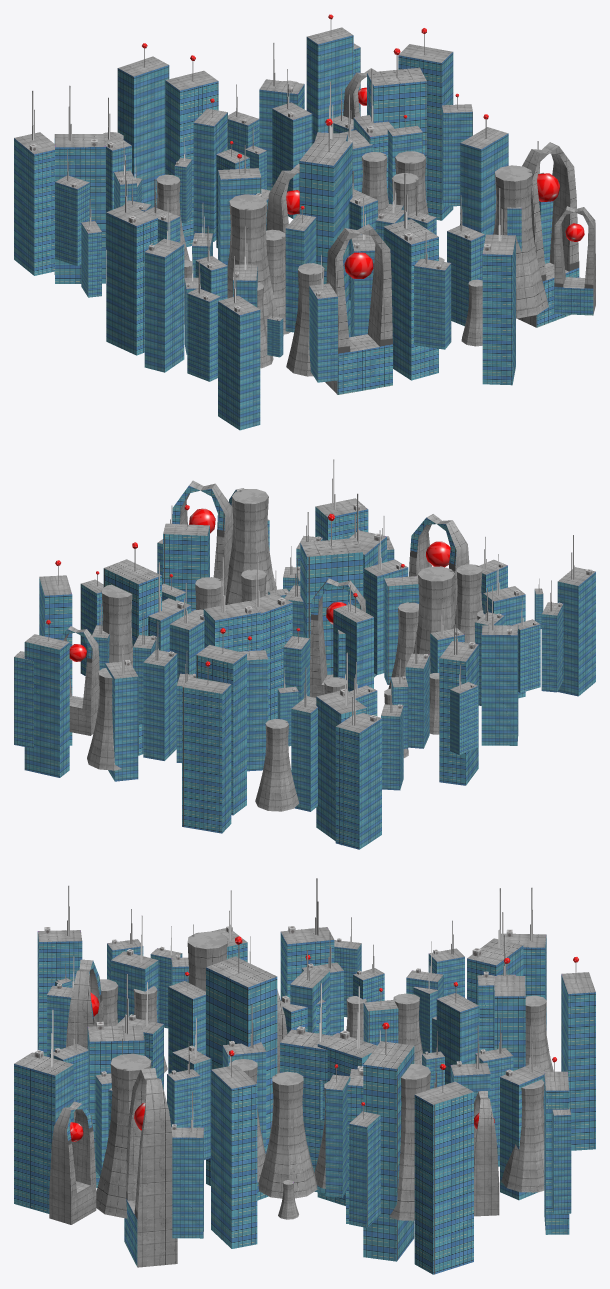
File: Cluster_5.fbx
3 renders of one model, top to bottom at view 1: azimuth 30°, elevation 25°; view 2: azimuth 150°, elevation 25°; view 3: azimuth 270°, elevation 25°, orthographic. The views are drawn at different scales.
Parts seen in each view (by area): view 1: pCube2Shape_MASH1_Instancer_74, polySurface10Shape_MASH1_Instancer_30, polySurface10Shape_MASH1_Instancer_0, polySurface11Shape_MASH1_Instancer_4, polySurface11Shape_MASH1_Instancer_54, polySurface10Shape_MASH1_Instancer_70, polySurface10Shape_MASH1_Instancer_65, polySurface10Shape_MASH1_Instancer_40, polySurface10Shape_MASH1_Instancer_76, pCube2Shape_MASH1_Instancer_69, polySurfaceShape12_MASH1_Instancer_68, polySurface11Shape_MASH1_Instancer_29 (+47 smaller); view 2: polySurface11Shape_MASH1_Instancer_4, polySurface10Shape_MASH1_Instancer_0, polySurface11Shape_MASH1_Instancer_8, polySurface10Shape_MASH1_Instancer_40, polySurface11Shape_MASH1_Instancer_54, polySurface10Shape_MASH1_Instancer_70, polySurface11Shape_MASH1_Instancer_14, polySurface10Shape_MASH1_Instancer_30, polySurfaceShape12_MASH1_Instancer_68, polySurface10Shape_MASH1_Instancer_16, polySurface10Shape_MASH1_Instancer_1, polySurface10Shape_MASH1_Instancer_6 (+46 smaller); view 3: polySurface11Shape_MASH1_Instancer_29, pCube2Shape_MASH1_Instancer_69, polySurface11Shape_MASH1_Instancer_58, polySurface11Shape_MASH1_Instancer_54, polySurface10Shape_MASH1_Instancer_76, polySurface11Shape_MASH1_Instancer_38, polySurface11Shape_MASH1_Instancer_4, pCube2Shape_MASH1_Instancer_79, polySurfaceShape12_MASH1_Instancer_47, polySurfaceShape12_MASH1_Instancer_68, polySurface10Shape_MASH1_Instancer_35, polySurface10Shape_MASH1_Instancer_59 (+52 smaller).
Part boxes in pixels (box(x1,y1,x2,y2)): pCube2Shape_MASH1_Instancer_74: box(325, 224, 392, 394); polySurface10Shape_MASH1_Instancer_30: box(106, 160, 157, 355); polySurface10Shape_MASH1_Instancer_0: box(14, 90, 54, 275); polySurface11Shape_MASH1_Instancer_4: box(117, 43, 169, 207); polySurface11Shape_MASH1_Instancer_54: box(299, 118, 352, 337); polySurface10Shape_MASH1_Instancer_70: box(218, 256, 260, 430); polySurface10Shape_MASH1_Instancer_65: box(383, 173, 438, 380); polySurface10Shape_MASH1_Instancer_40: box(144, 198, 184, 372); polySurface10Shape_MASH1_Instancer_76: box(482, 188, 515, 385); pCube2Shape_MASH1_Instancer_69: box(517, 142, 579, 327); polySurfaceShape12_MASH1_Instancer_68: box(493, 165, 548, 318); polySurface11Shape_MASH1_Instancer_29: box(398, 28, 453, 220); polySurface11Shape_MASH1_Instancer_4: box(182, 661, 231, 833); polySurface10Shape_MASH1_Instancer_0: box(335, 678, 381, 849); polySurface11Shape_MASH1_Instancer_8: box(24, 619, 69, 777); polySurface10Shape_MASH1_Instancer_40: box(481, 585, 518, 745); polySurface11Shape_MASH1_Instancer_54: box(300, 513, 362, 674); polySurface10Shape_MASH1_Instancer_70: box(557, 535, 595, 696); polySurface11Shape_MASH1_Instancer_14: box(196, 628, 246, 815); polySurface10Shape_MASH1_Instancer_30: box(439, 604, 478, 785); polySurfaceShape12_MASH1_Instancer_68: box(225, 489, 275, 604); polySurface10Shape_MASH1_Instancer_16: box(143, 622, 177, 760); polySurface10Shape_MASH1_Instancer_1: box(316, 652, 366, 845); polySurface10Shape_MASH1_Instancer_6: box(105, 631, 138, 781); polySurface11Shape_MASH1_Instancer_29: box(414, 1064, 473, 1274); pCube2Shape_MASH1_Instancer_69: box(124, 1068, 177, 1267); polySurface11Shape_MASH1_Instancer_58: box(211, 1050, 257, 1248); polySurface11Shape_MASH1_Instancer_54: box(206, 936, 277, 1200); polySurface10Shape_MASH1_Instancer_76: box(14, 1009, 73, 1213); polySurface11Shape_MASH1_Instancer_38: box(363, 1022, 414, 1261); polySurface11Shape_MASH1_Instancer_4: box(561, 957, 595, 1150); pCube2Shape_MASH1_Instancer_79: box(49, 1101, 96, 1224); polySurfaceShape12_MASH1_Instancer_47: box(258, 1071, 317, 1198); polySurfaceShape12_MASH1_Instancer_68: box(96, 1053, 151, 1218); polySurface10Shape_MASH1_Instancer_35: box(280, 983, 331, 1193); polySurface10Shape_MASH1_Instancer_59: box(171, 1092, 203, 1238).
Bounding box in the file's own units: 115 × 62.77 × 131.
